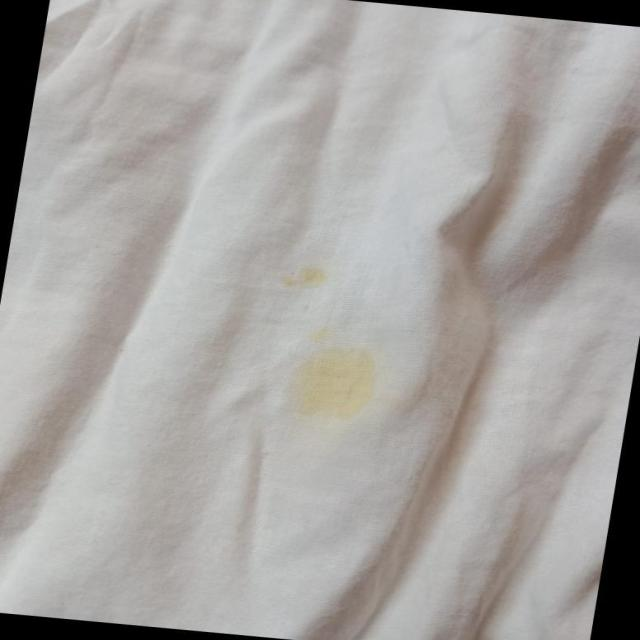stain: (262, 326, 398, 432), (275, 250, 345, 297)
